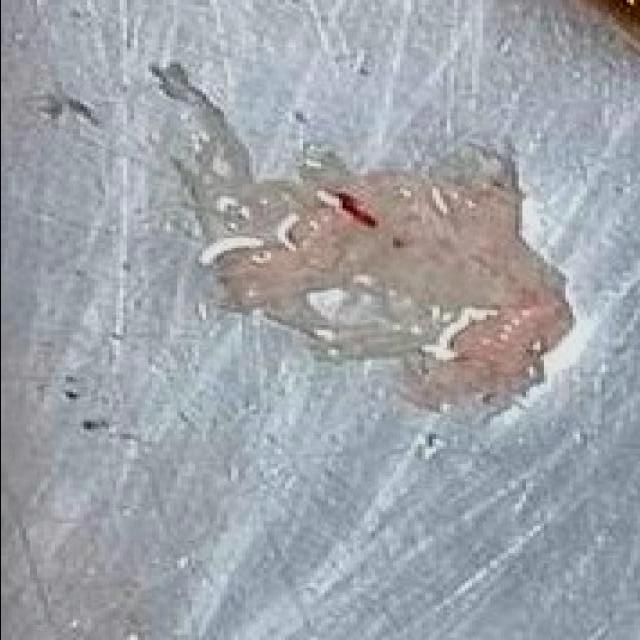General: (5, 4, 637, 638)
